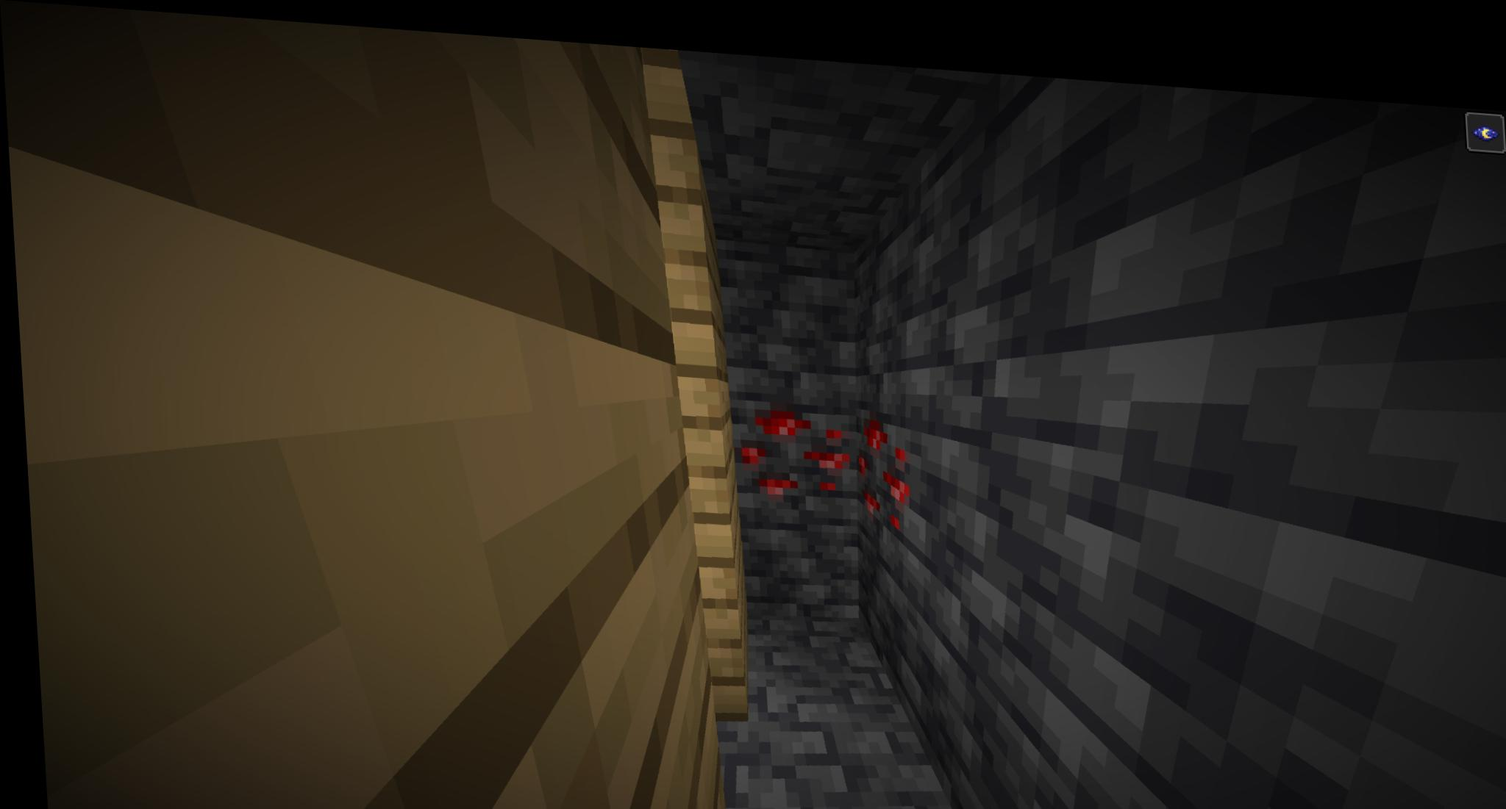redstone ore: (727, 387, 853, 503), (845, 396, 920, 526)
